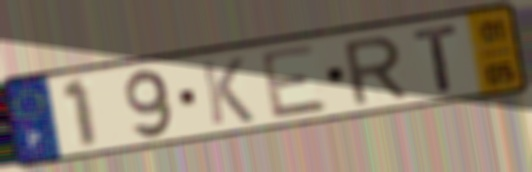1: (59, 76, 105, 151)
9: (122, 66, 176, 141)
E: (256, 41, 333, 122)
K: (197, 54, 258, 128)
R: (339, 33, 411, 108)
T: (410, 22, 462, 95)
